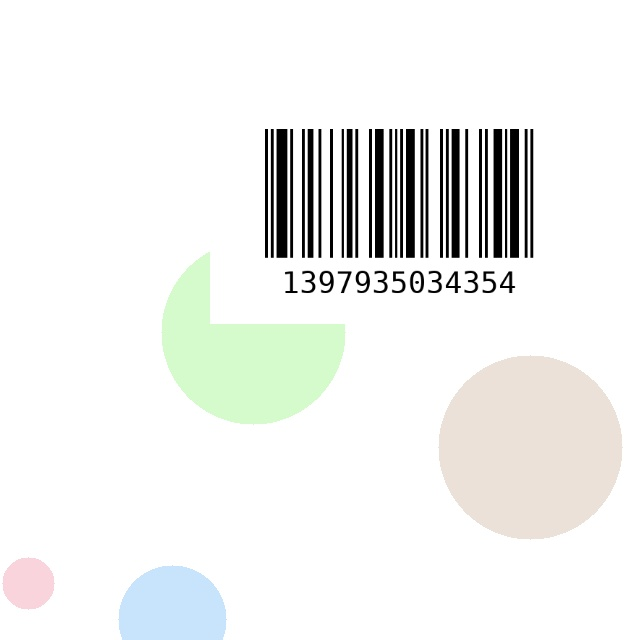barcode: (210, 121, 588, 324)
